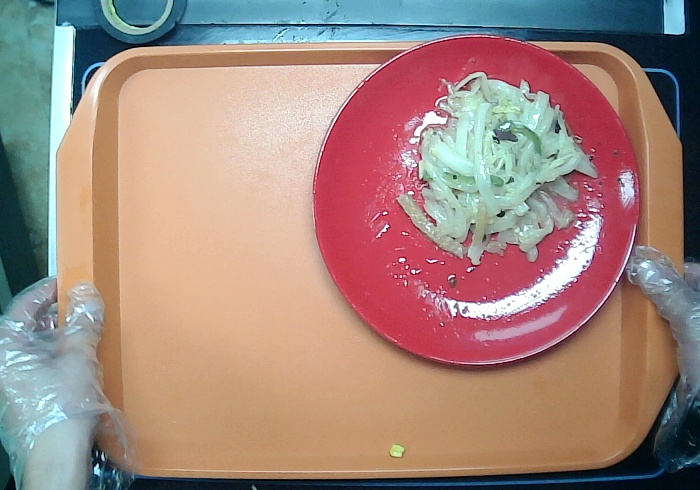HZYJPL-Hong_Se_Yuan_Pan: (304, 28, 650, 384)
